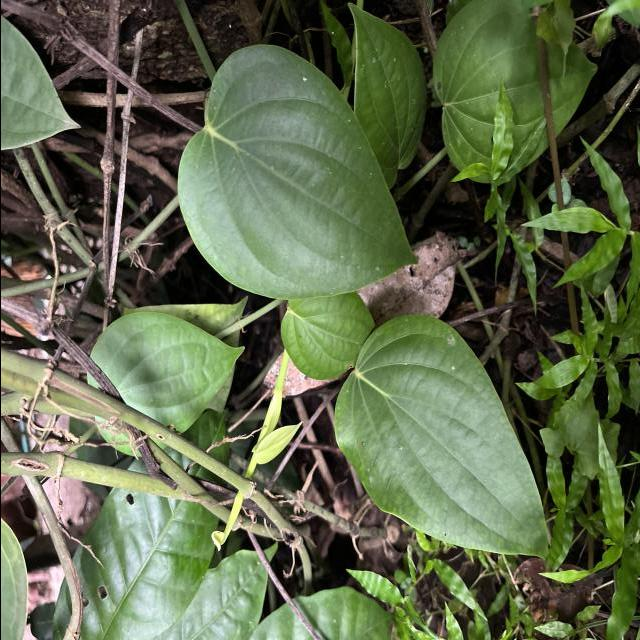Piper nigrum: (174, 41, 420, 302), (330, 310, 550, 566)
